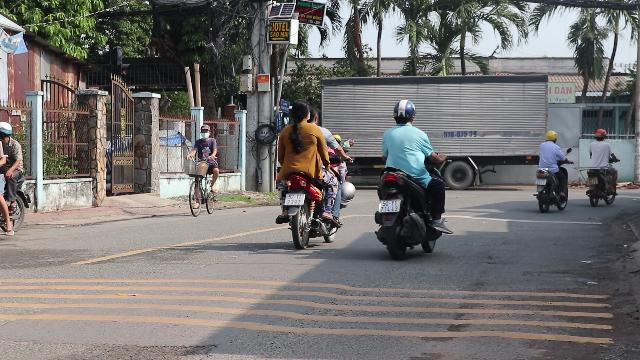helmet: (391, 100, 415, 124)
licenseplate: (380, 200, 400, 212), (284, 194, 306, 204)
motorcyclist: (371, 99, 452, 259), (272, 98, 348, 248)
nohelmet: (288, 99, 310, 123)
